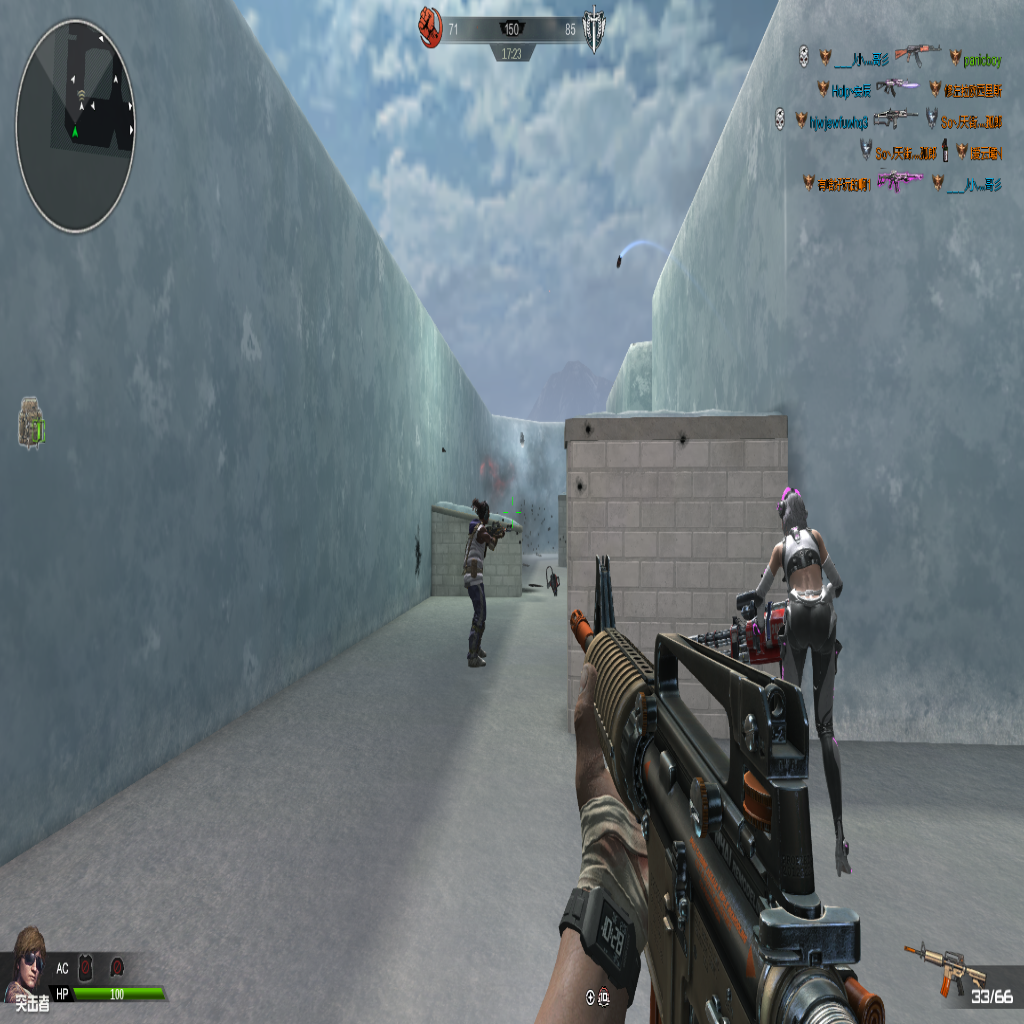tt: (741, 484, 849, 862), (461, 499, 515, 667)
